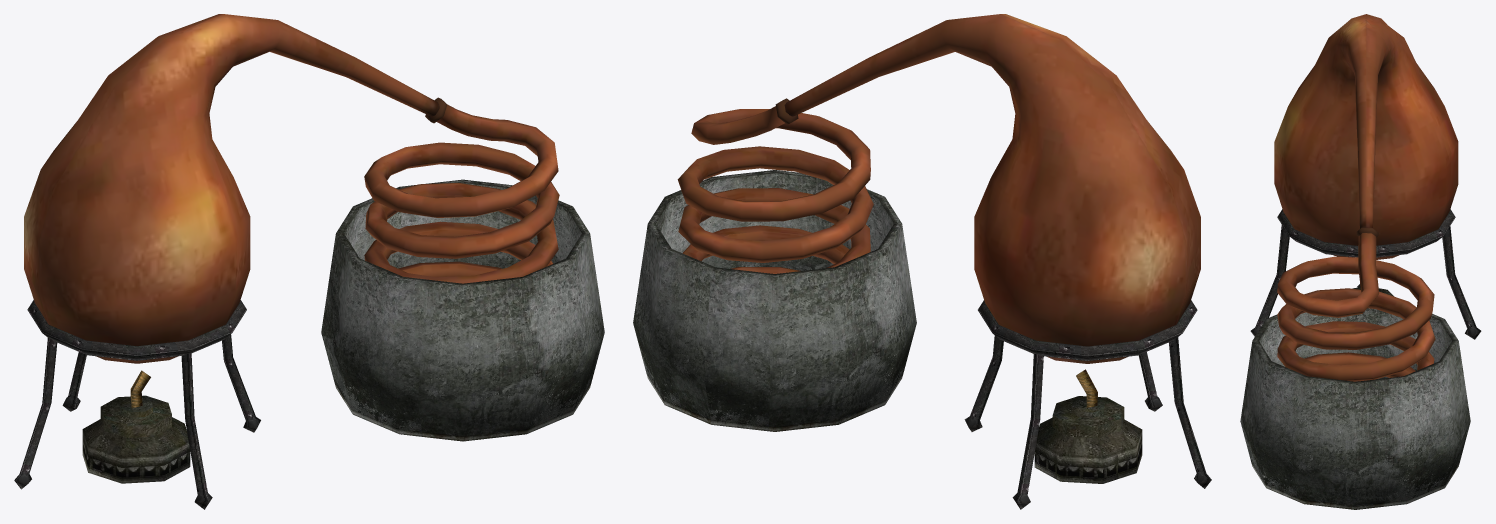
Rendered from KM_VOB_ALEMBIC.glb.
The picture shows the model from 3 angles, left to right: view 1: azimuth 30°, elevation 25°; view 2: azimuth 150°, elevation 25°; view 3: azimuth 270°, elevation 25°; orthographic projection. The views are drawn at different scales.
Visible parts, largest first — view 1: Mesh; view 2: Mesh; view 3: Mesh.
Boxes of the visible parts, box(x1,y1,x2,y2) form: Mesh: box(14, 14, 604, 509); Mesh: box(633, 14, 1211, 509); Mesh: box(1240, 14, 1481, 509).
Bounding box in the file's own units: 0.5328 × 0.3828 × 0.2423.
Materials: 5 (5 with a texture image).
